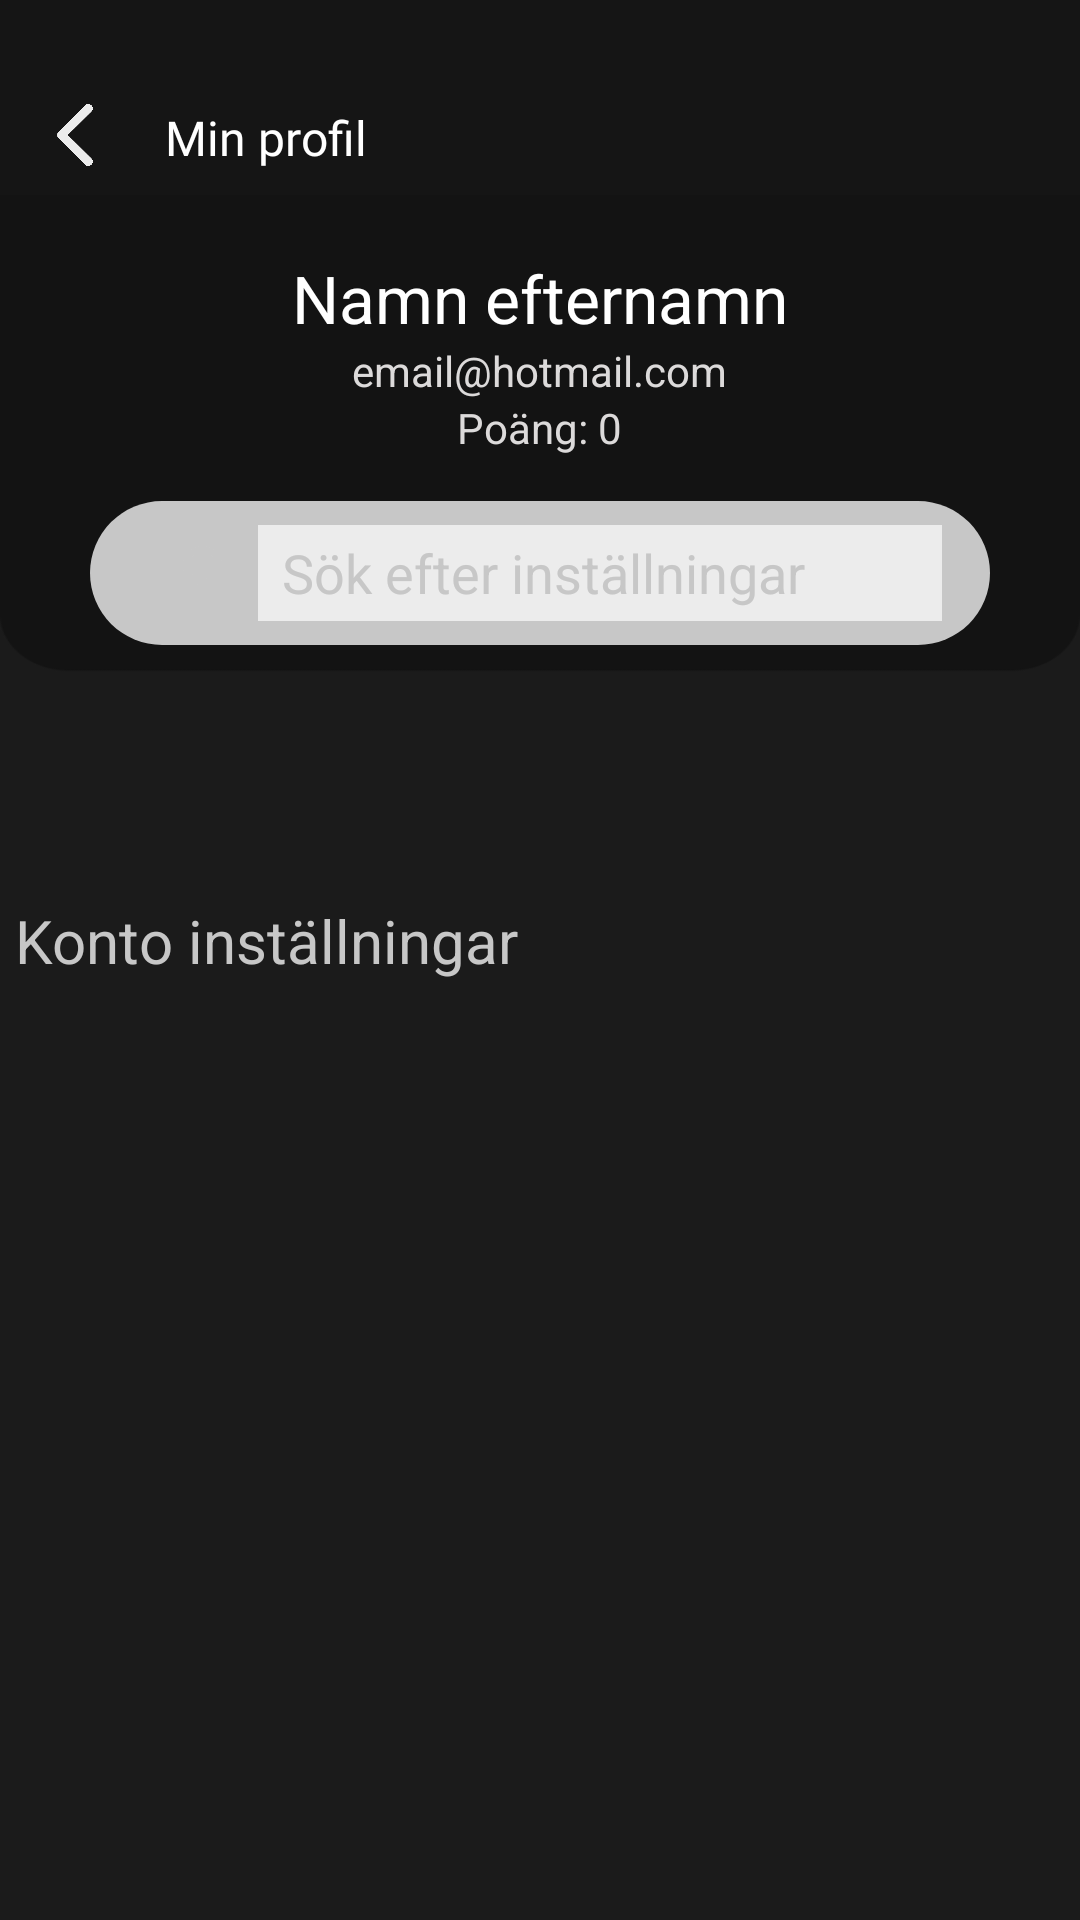

Where to tap for icons on this 1080px×1920px app screen, as (x=x, y=y):
back arrow: (x=75, y=135)
